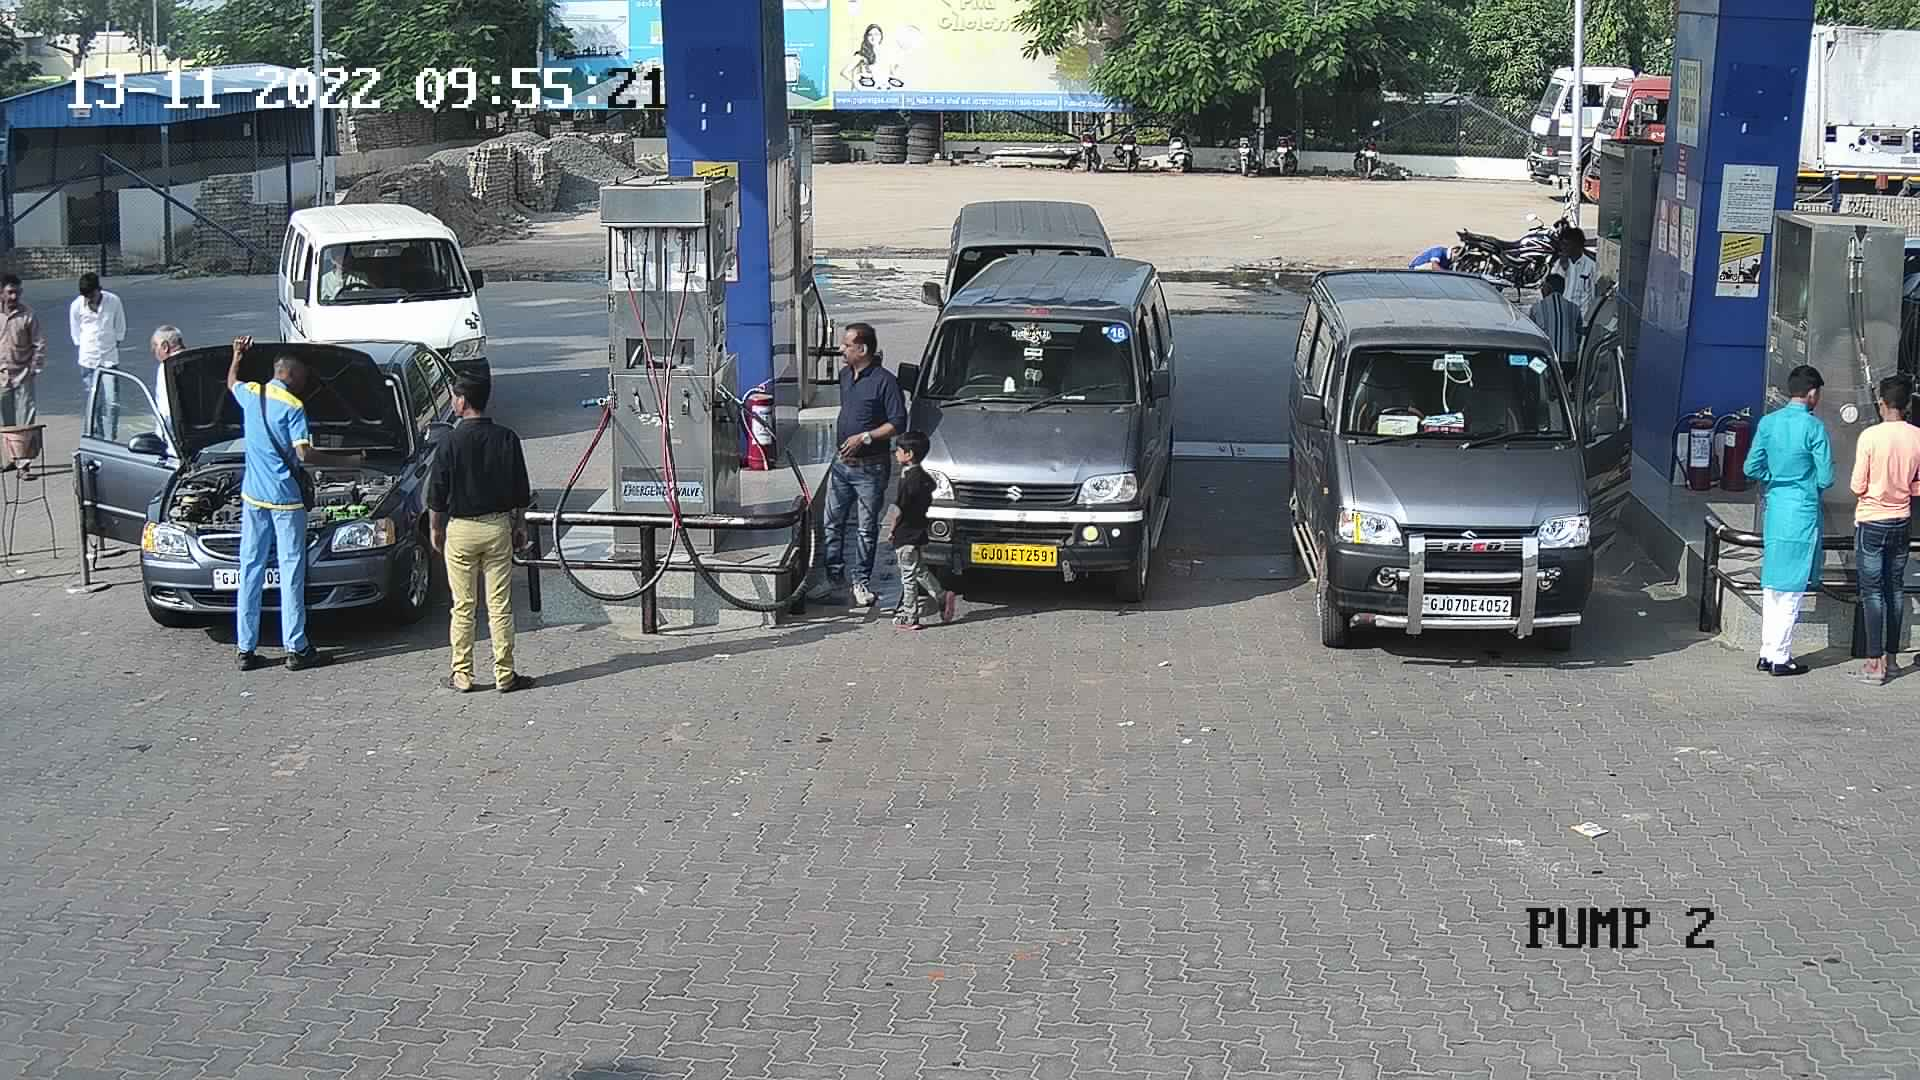Bike: (1435, 203, 1606, 306), (1338, 113, 1396, 185), (1262, 105, 1313, 179), (1222, 104, 1265, 179), (1154, 113, 1203, 177), (1068, 109, 1113, 170), (1112, 107, 1145, 170)
Car: (1273, 258, 1639, 659), (66, 326, 472, 641), (891, 241, 1185, 612), (266, 196, 498, 419), (913, 191, 1127, 328)
HMV: (1518, 36, 1672, 212), (1580, 51, 1677, 218)
Others: (222, 332, 326, 671)
